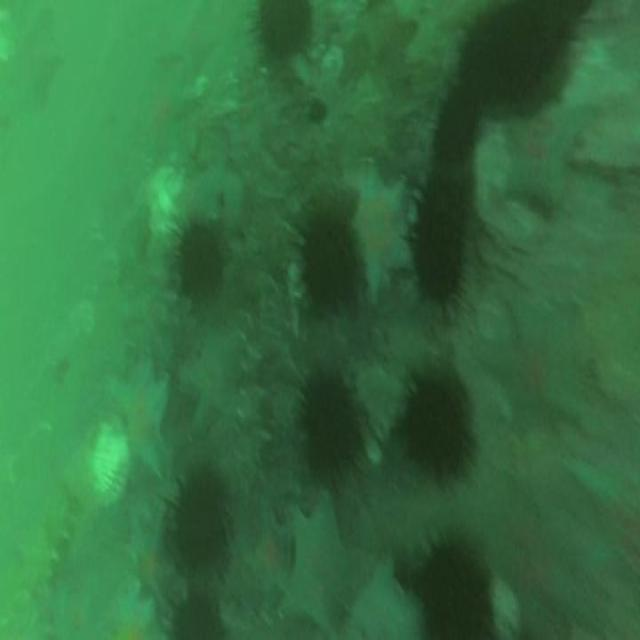echinus: (420, 542, 490, 640), (407, 382, 468, 478), (175, 472, 229, 570), (306, 213, 359, 308), (306, 378, 358, 471), (501, 0, 553, 92), (413, 218, 462, 305), (462, 27, 512, 103), (177, 223, 223, 300), (436, 82, 476, 157), (258, 2, 312, 52), (419, 180, 465, 228)
holothurian: (22, 486, 70, 596), (238, 343, 268, 485)
scallop: (92, 430, 130, 506), (140, 171, 182, 215), (322, 44, 344, 78)
starfish: (482, 305, 583, 438), (498, 514, 588, 638), (288, 488, 357, 623), (503, 95, 578, 197), (356, 158, 408, 299), (111, 363, 171, 478), (190, 330, 247, 430), (353, 559, 420, 637), (243, 506, 290, 614), (127, 509, 169, 607)
